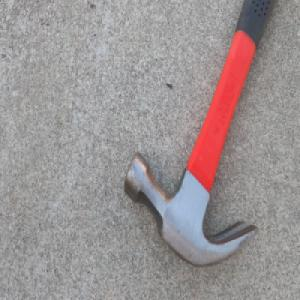Hammer: (122, 0, 277, 270)
